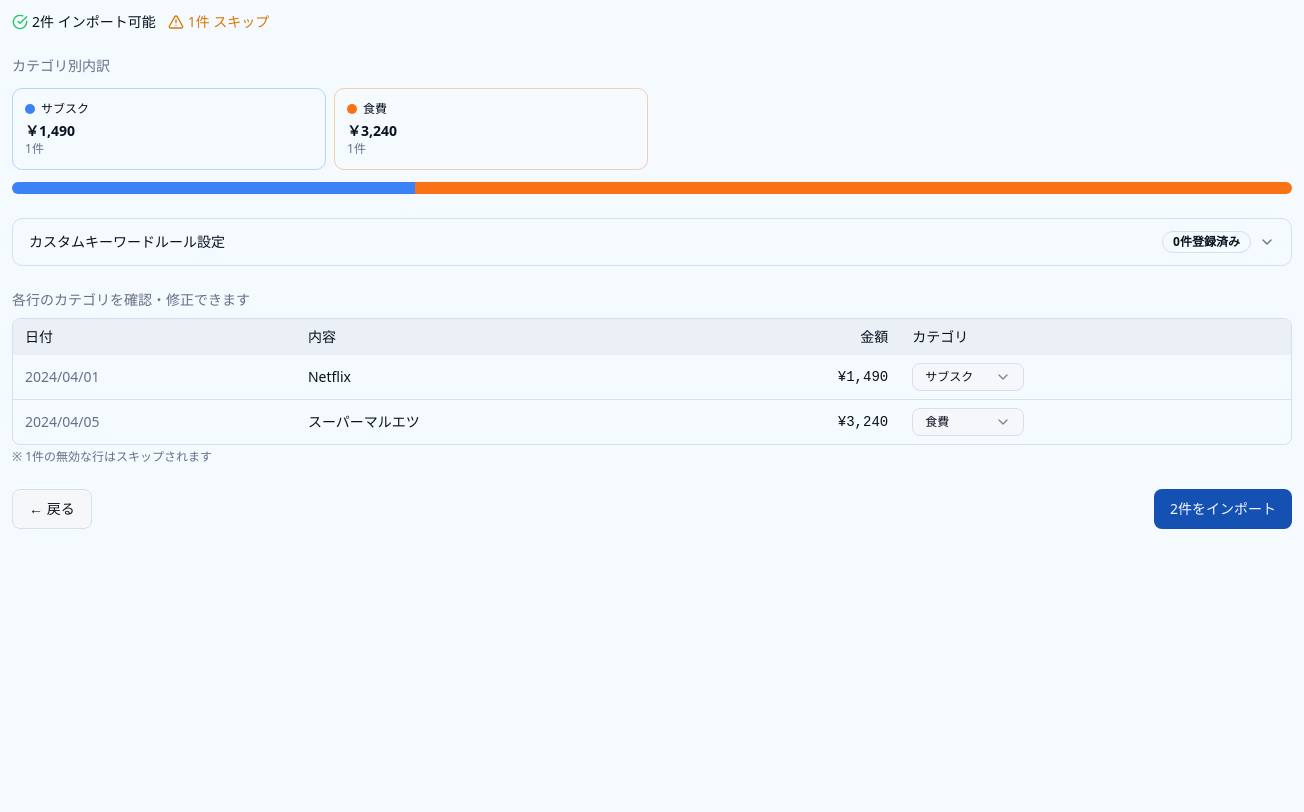
CategoryReviewPanel › adds and removes a custom keyword rule, persisting to storage
Step 1. Click the text "カスタムキーワードルール設定" → (127, 242), box [29, 232, 225, 252]
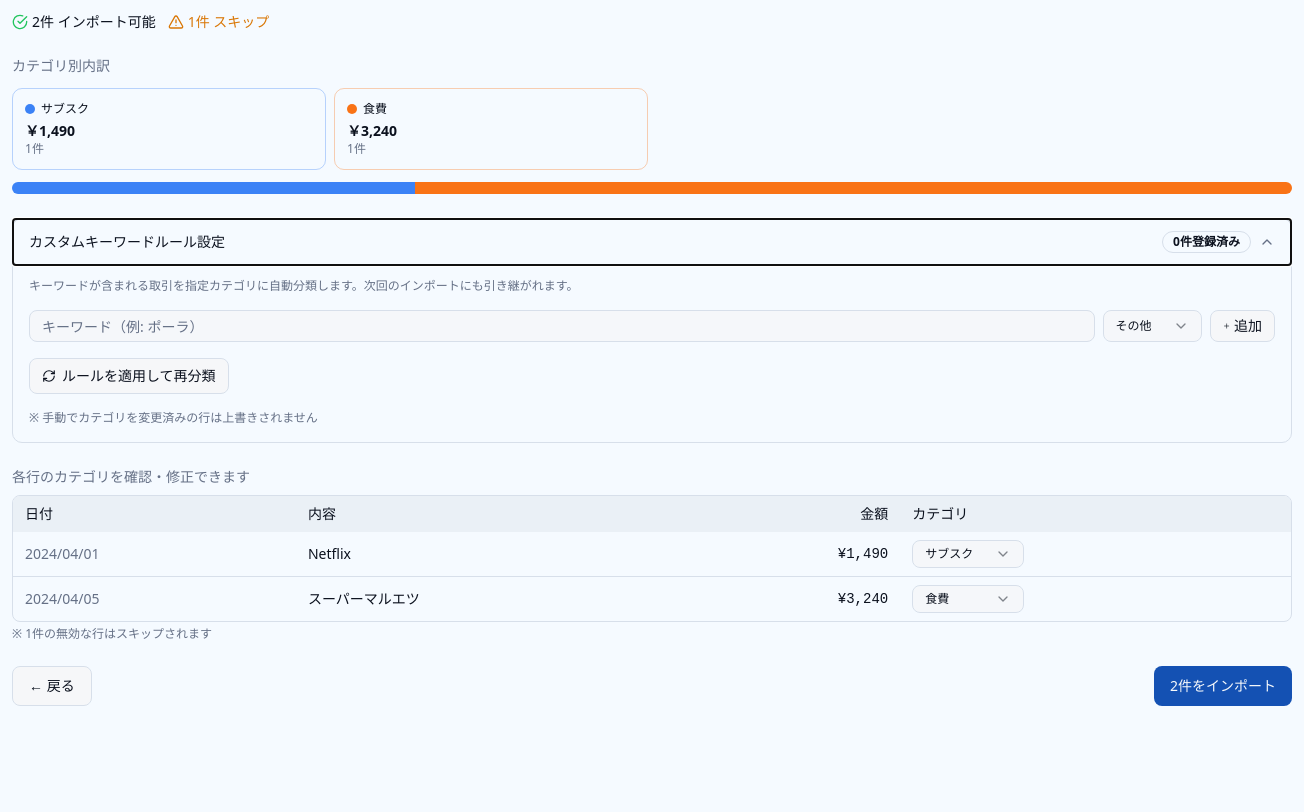
Step 2. Type "ポーラ" into the field with placeholder "キーワード（例: ポーラ）" → (562, 326), box [29, 310, 1094, 342]
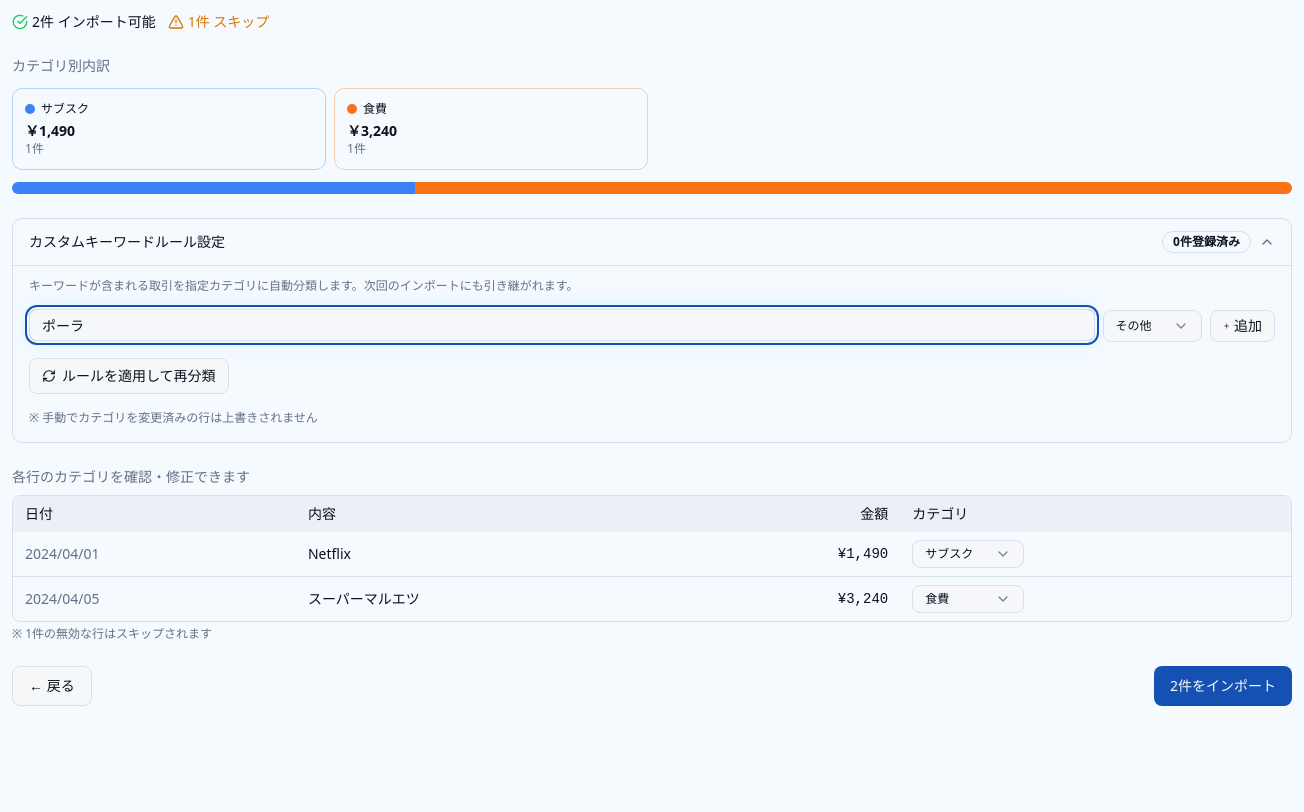
Step 3. Click the button "追加" → (1242, 326), box [1210, 310, 1275, 342]
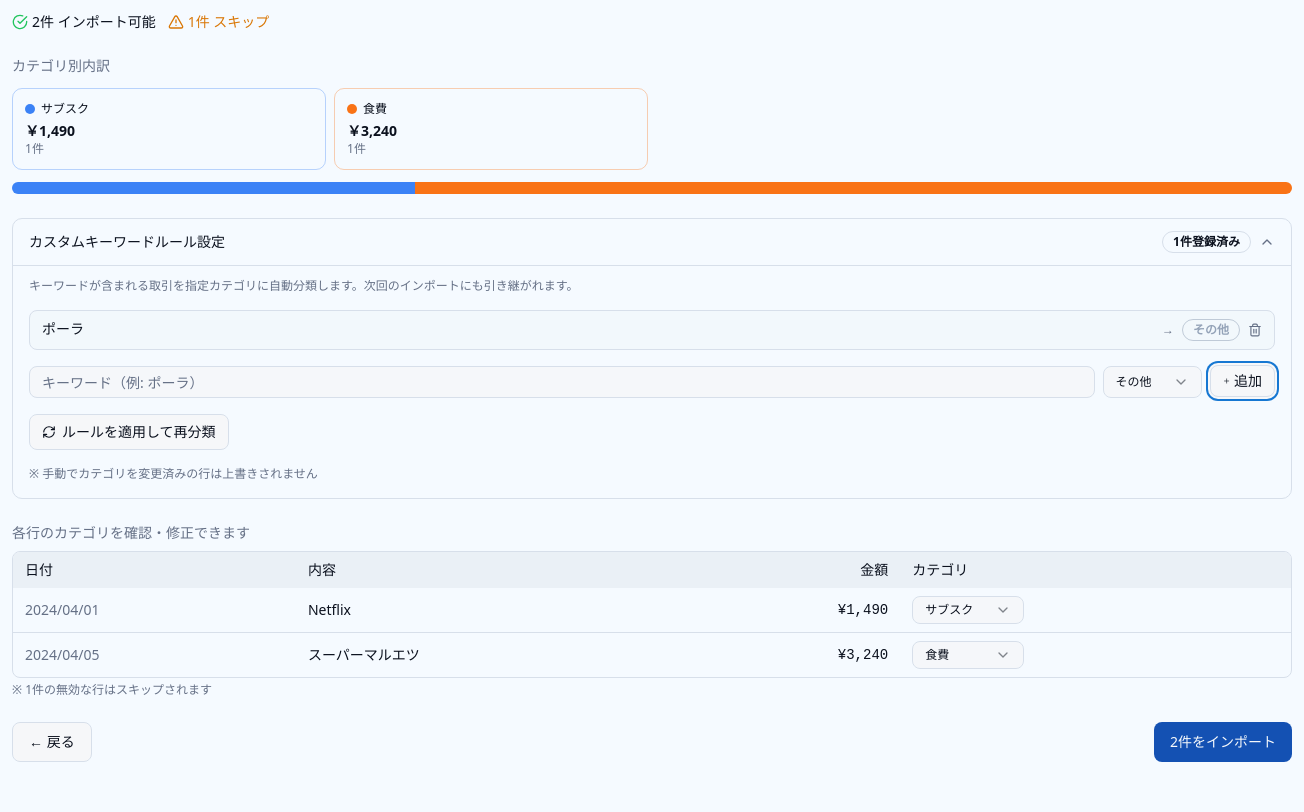
expect the text "ポーラ" is shown: met, box [42, 322, 84, 338]
expect the text "1件登録済み" is shown: met, box [1162, 231, 1251, 253]
Step 4. Click the 2nd button → (1255, 330), box [1248, 323, 1262, 337]
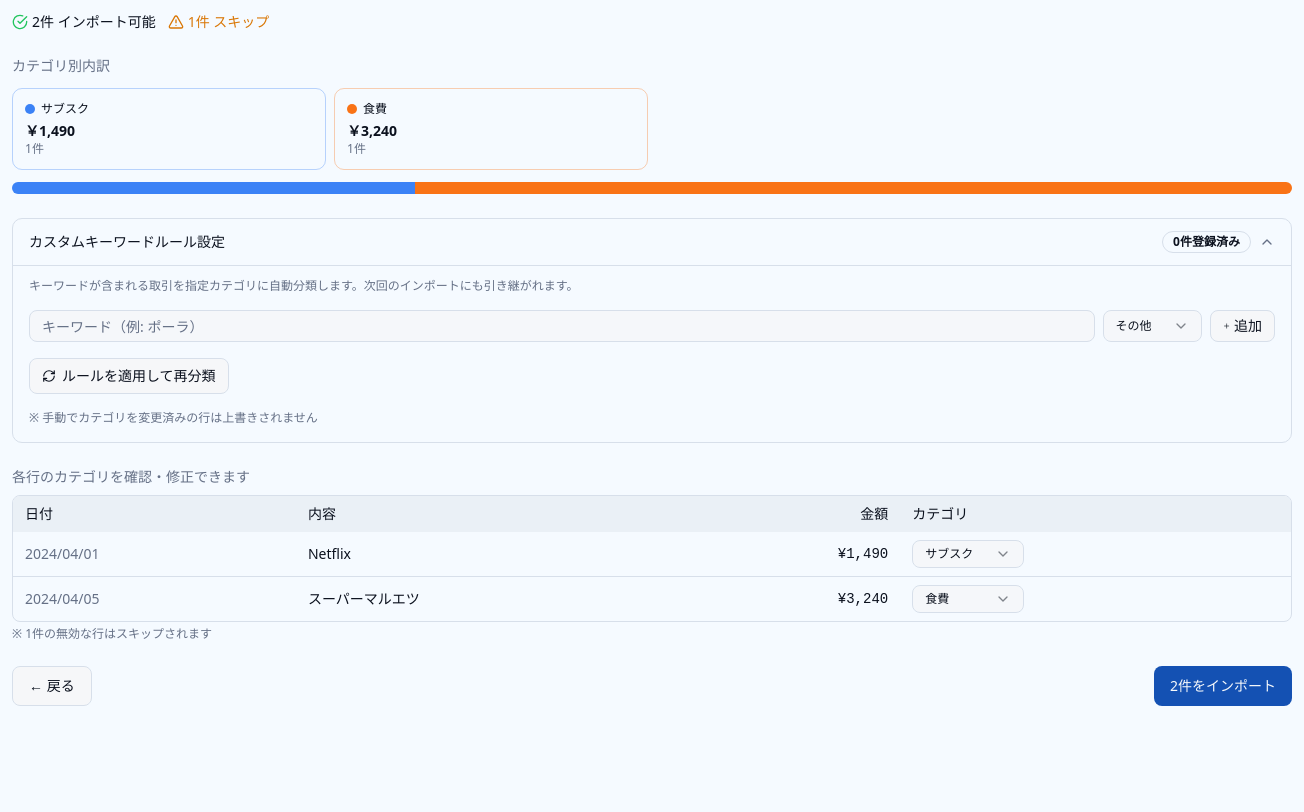
expect the text "0件登録済み" is shown: met, box [1162, 231, 1251, 253]
